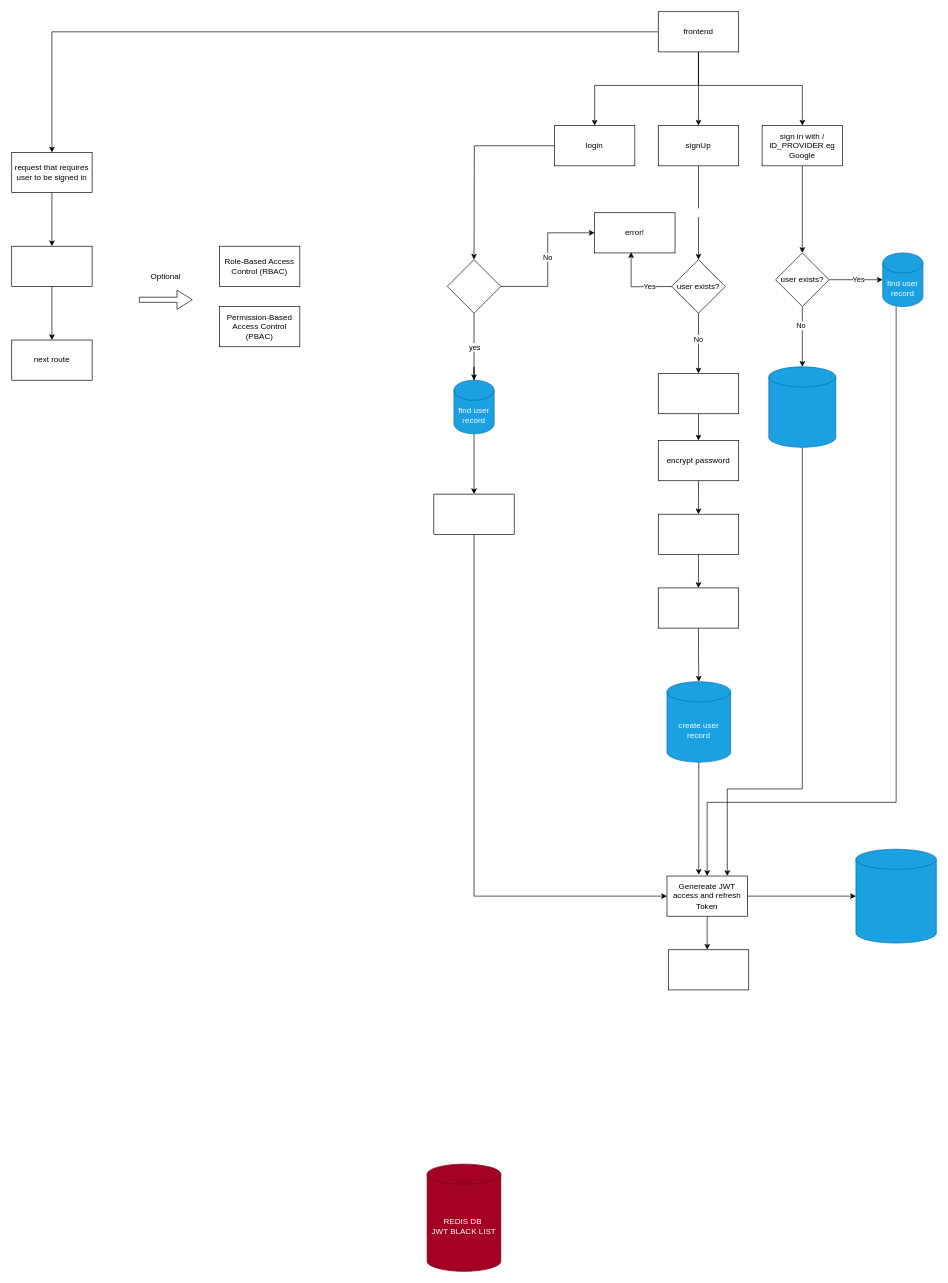
This 948x1283 diagram has some shape labels left out. Here are the shapes that lost their labels. From the top down, the centre of each, then its label:
At (x=51, y=266): "requireAuth middleware".
At (x=474, y=286): "user exists ?".
At (x=698, y=393): "Process sign up request".
At (x=802, y=406): "Create new user record".
At (x=473, y=513): "validate password".
At (x=698, y=534): "check email format".
At (x=698, y=607): "validate email".
At (x=895, y=896): "Save refresh token into its own table refresh_tokens".
At (x=708, y=969): "send access token".
